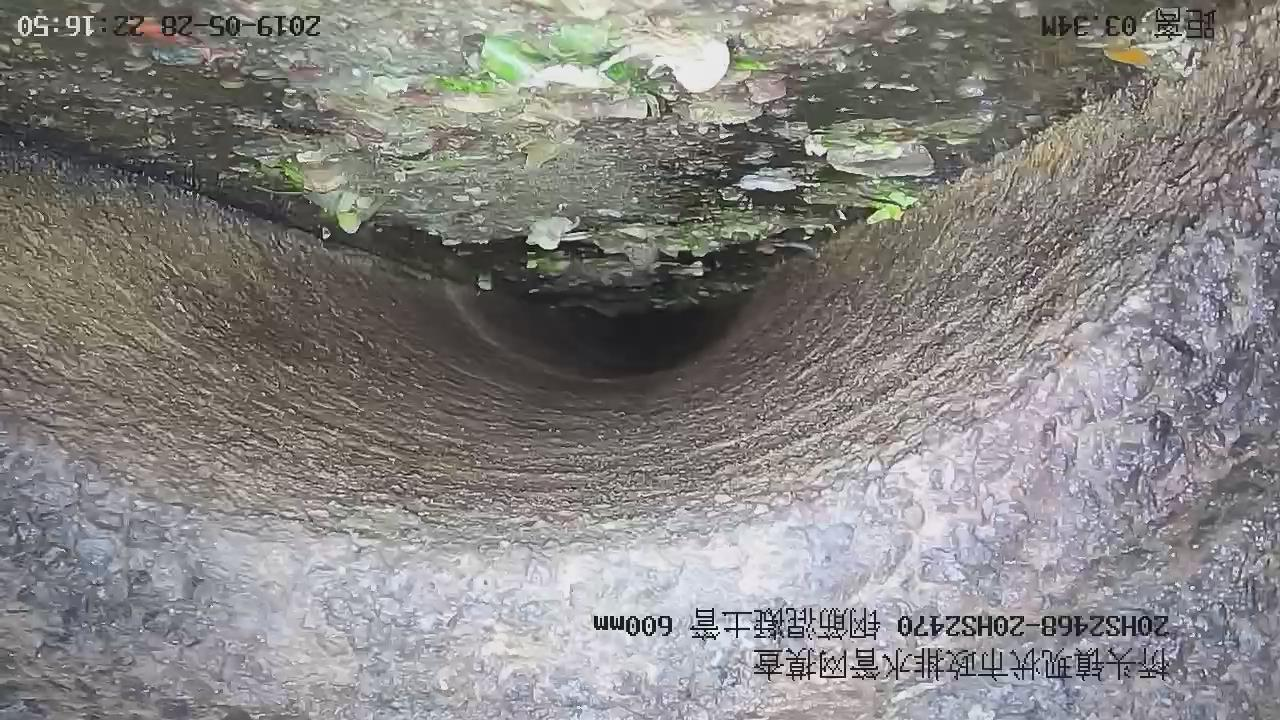CJ: (1, 1, 1215, 307)
JG: (1, 7, 1280, 720)
